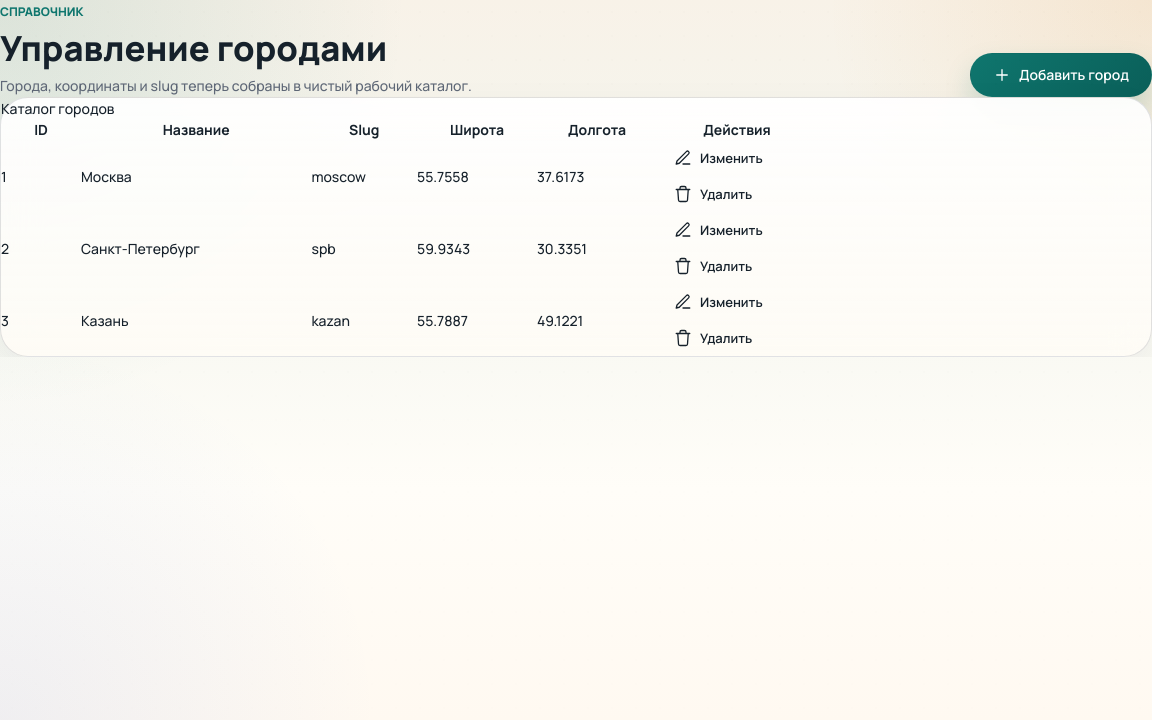
Test: CityManagement › opens create modal when clicking add button
The image size is (1152, 720).
Step 1. Click the button "Добавить город" → point(1061, 75), box x1=970 y1=53 x2=1151 y2=97
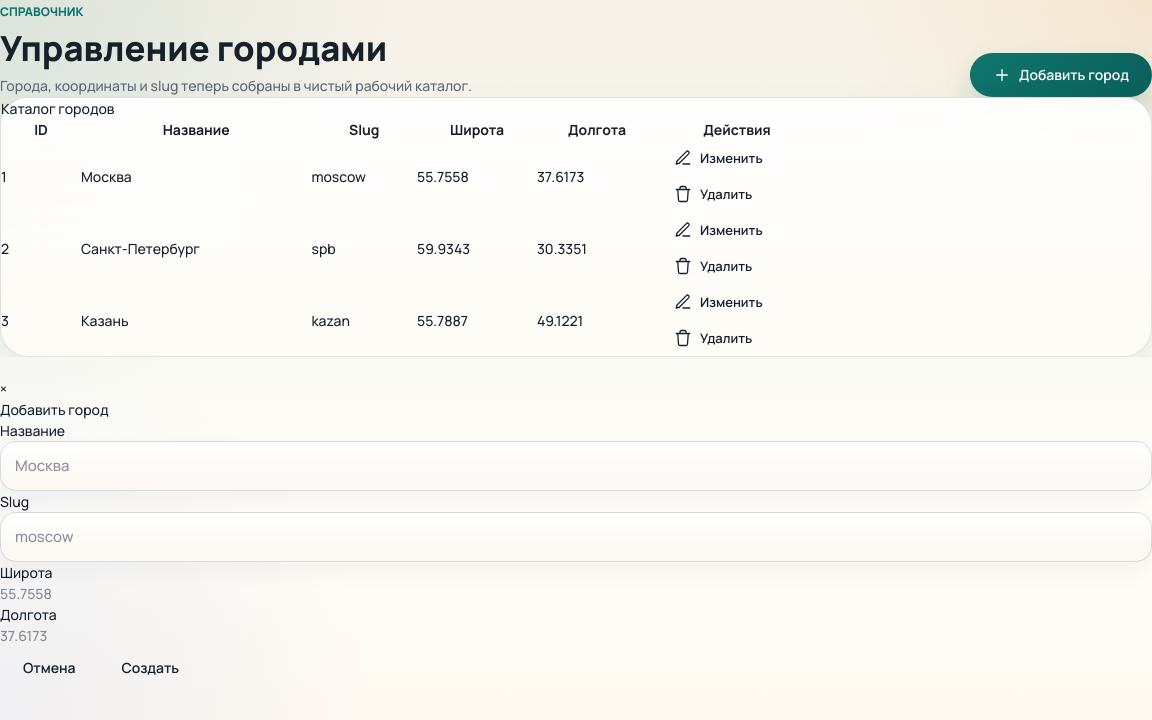
Check: the 2nd text "Добавить город" is shown, box x1=0 y1=400 x2=108 y2=419
